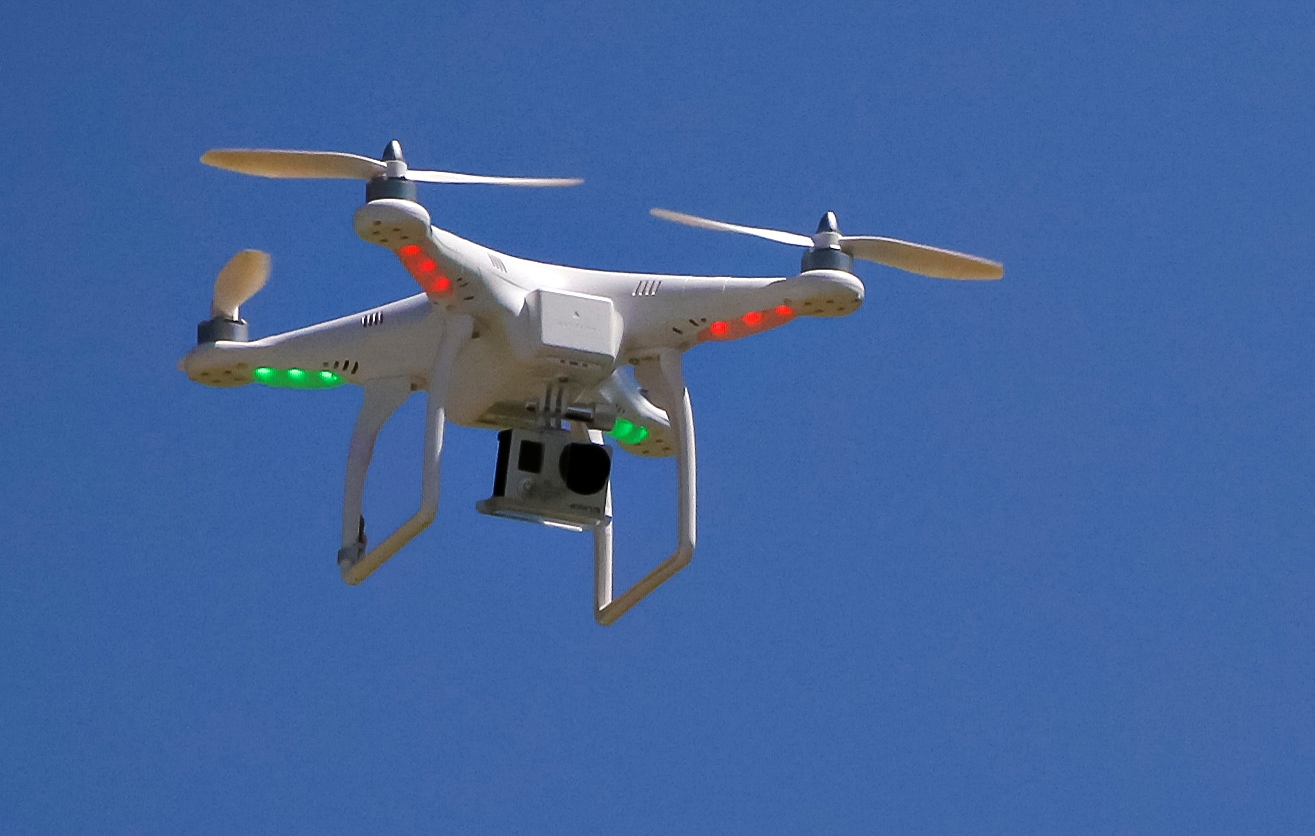drone: (174, 137, 1009, 632)
